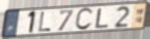1: (27, 10, 38, 35)
2: (114, 5, 132, 29)
7: (59, 8, 75, 32)
C: (74, 7, 94, 32)
L: (37, 11, 53, 33), (94, 8, 110, 30)
